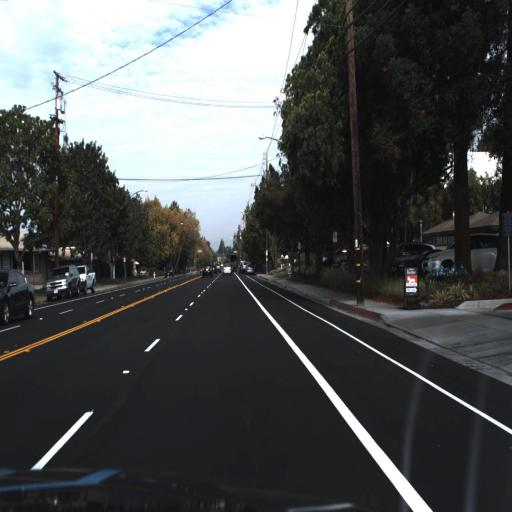car: (0, 264, 38, 323), (47, 262, 81, 298), (72, 265, 97, 294), (199, 260, 214, 280)
